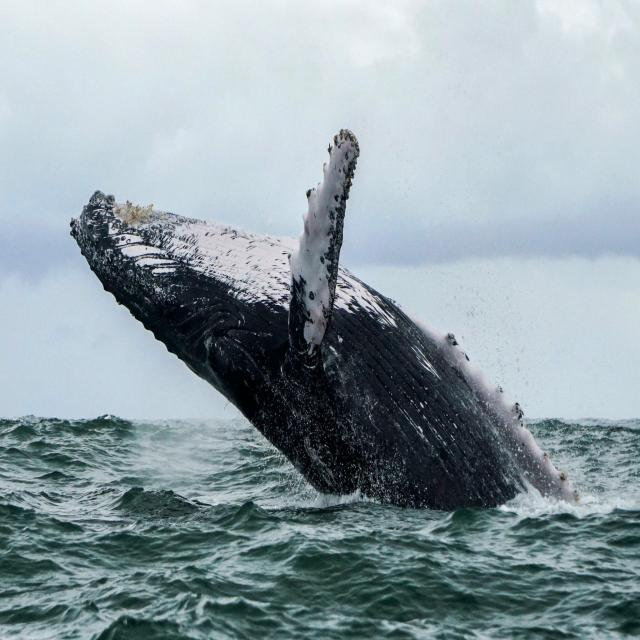whale: (71, 130, 578, 510)
